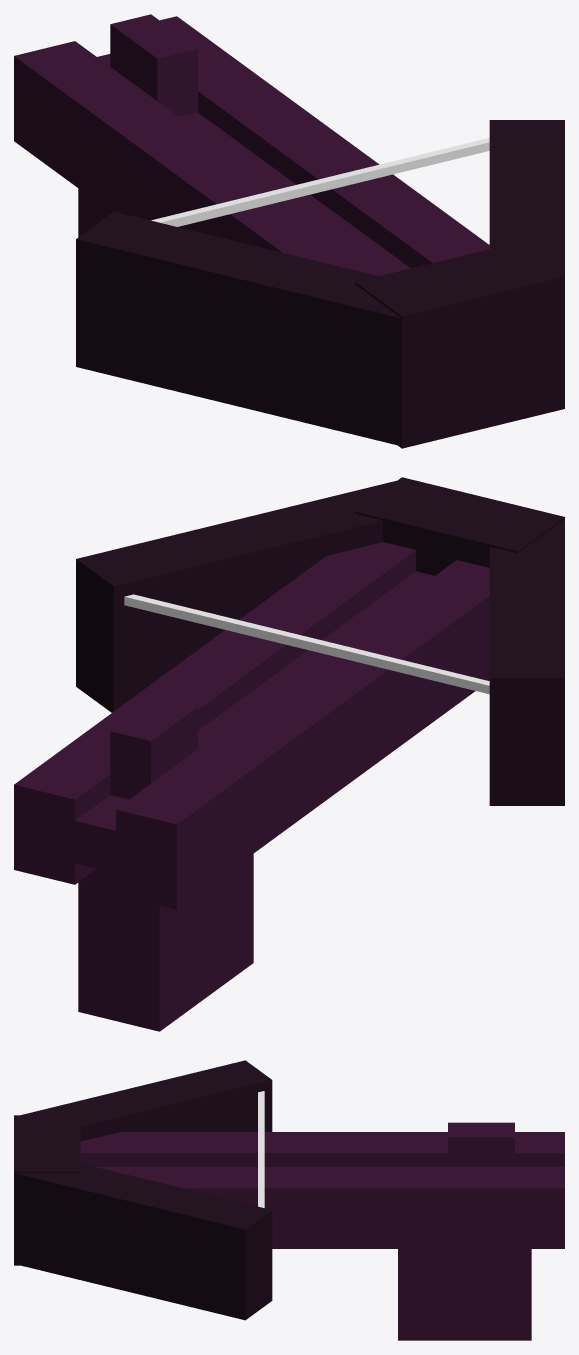
Rendered from HeresyBlowgunB.fbx.
The picture shows the model from 3 angles, top to bottom: view 1: azimuth 30°, elevation 25°; view 2: azimuth 150°, elevation 25°; view 3: azimuth 270°, elevation 25°; orthographic projection. The views are drawn at different scales.
Parts seen in each view (by area): view 1: Cube.010, Cube.003, Cube.002; view 2: Cube.003, Cube.010, Cube.002; view 3: Cube.003, Cube.010, Cube.002.
Part boxes in pixels (x1,y1,x2,y2): Cube.010: (76, 120, 564, 448); Cube.003: (14, 14, 489, 275); Cube.002: (151, 138, 489, 226); Cube.003: (14, 542, 489, 1031); Cube.010: (76, 477, 564, 805); Cube.002: (124, 594, 489, 694); Cube.003: (80, 1122, 564, 1340); Cube.010: (14, 1060, 272, 1320); Cube.002: (258, 1091, 264, 1207).
Bounding box in the file's own units: 120 × 65 × 165.
